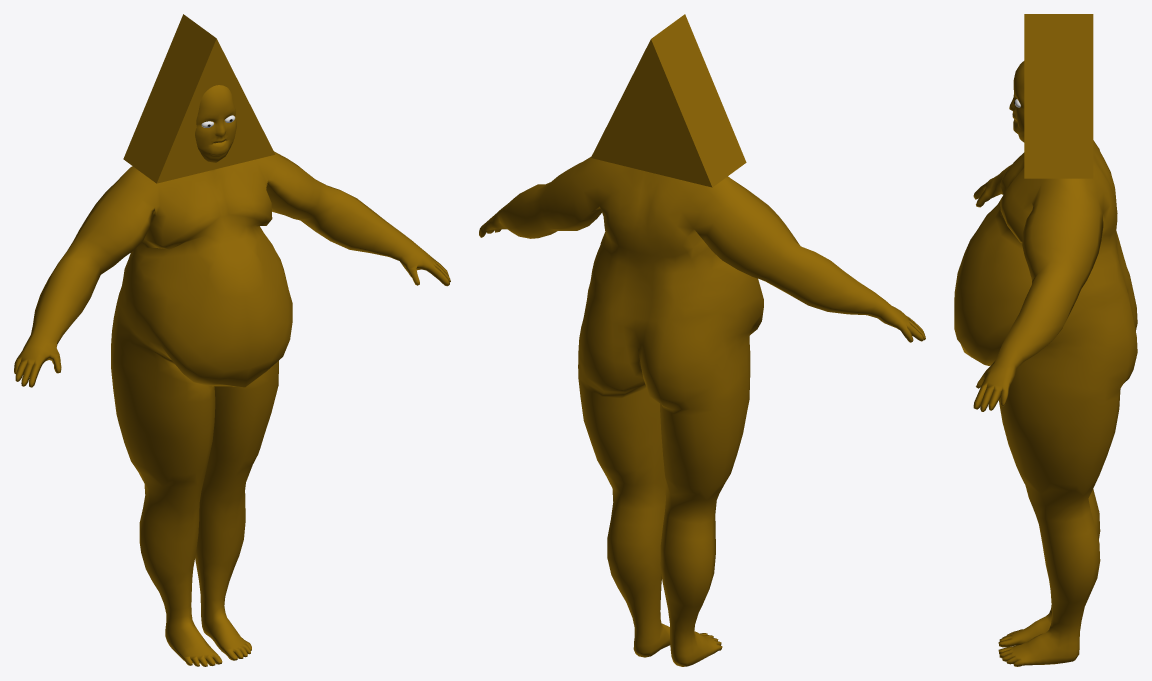
File: The Neighbour.fbx
3 views of the same model, side by side, from view 1: azimuth 30°, elevation 25°; view 2: azimuth 150°, elevation 25°; view 3: azimuth 270°, elevation 25° (orthographic). The views are drawn at different scales.
Parts seen in each view (by area): view 1: CharacterObese:Obese_person, pCube1; view 2: CharacterObese:Obese_person, pCube1; view 3: CharacterObese:Obese_person, pCube1.
Boxes of the visible parts, <box> form: CharacterObese:Obese_person: <box>14,85,450,666</box>; pCube1: <box>123,14,275,183</box>; CharacterObese:Obese_person: <box>479,157,925,666</box>; pCube1: <box>591,14,746,187</box>; CharacterObese:Obese_person: <box>954,61,1137,666</box>; pCube1: <box>1024,14,1093,178</box>.
Bounding box in the file's own units: 134 × 183 × 47.49.
